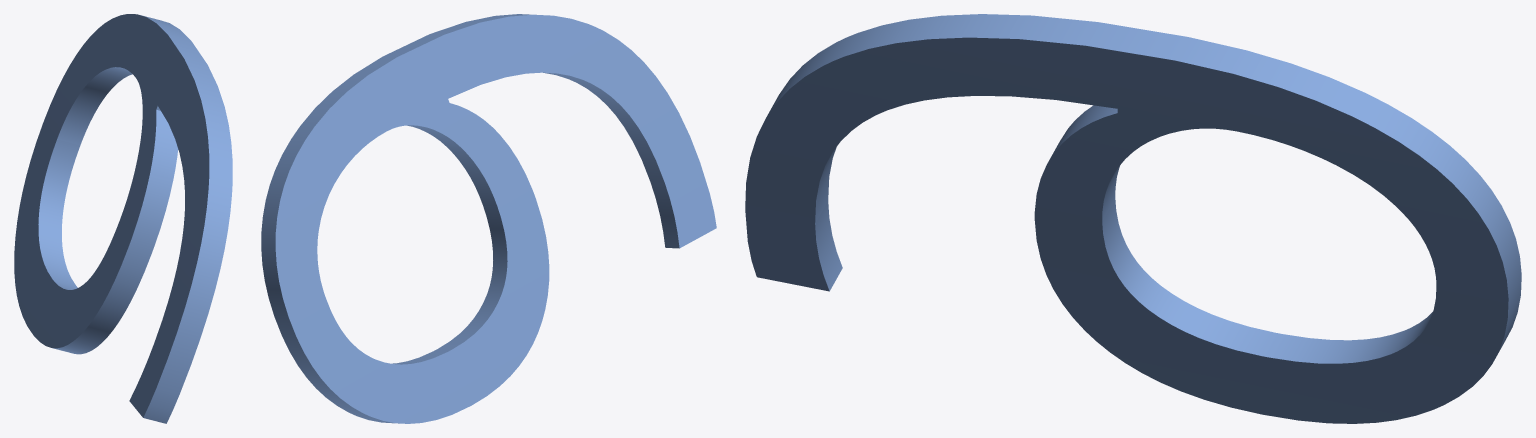
Rendered from New_Number_9.gltf.
3 views of the same model, side by side, from view 1: azimuth 30°, elevation 25°; view 2: azimuth 150°, elevation 25°; view 3: azimuth 270°, elevation 25° (orthographic). The views are drawn at different scales.
Parts seen in each view (by area): view 1: Part 639; view 2: Part 639; view 3: Part 639.
Boxes of the visible parts, box(x1,y1,x2,y2) form: Part 639: box(14, 14, 232, 423); Part 639: box(261, 14, 716, 423); Part 639: box(745, 14, 1521, 423).
Bounding box in the file's own units: 0.00251 × 0.0035 × 0.00556.
